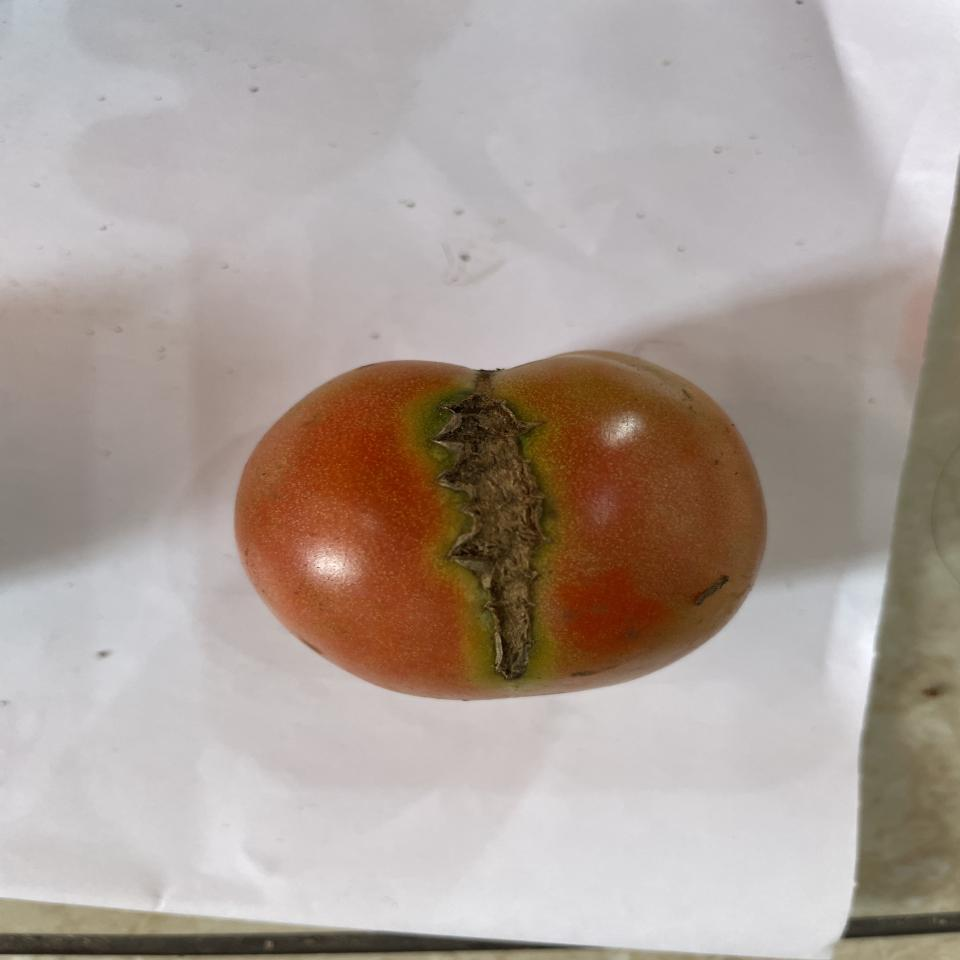Cracking: (412, 389, 569, 681)
